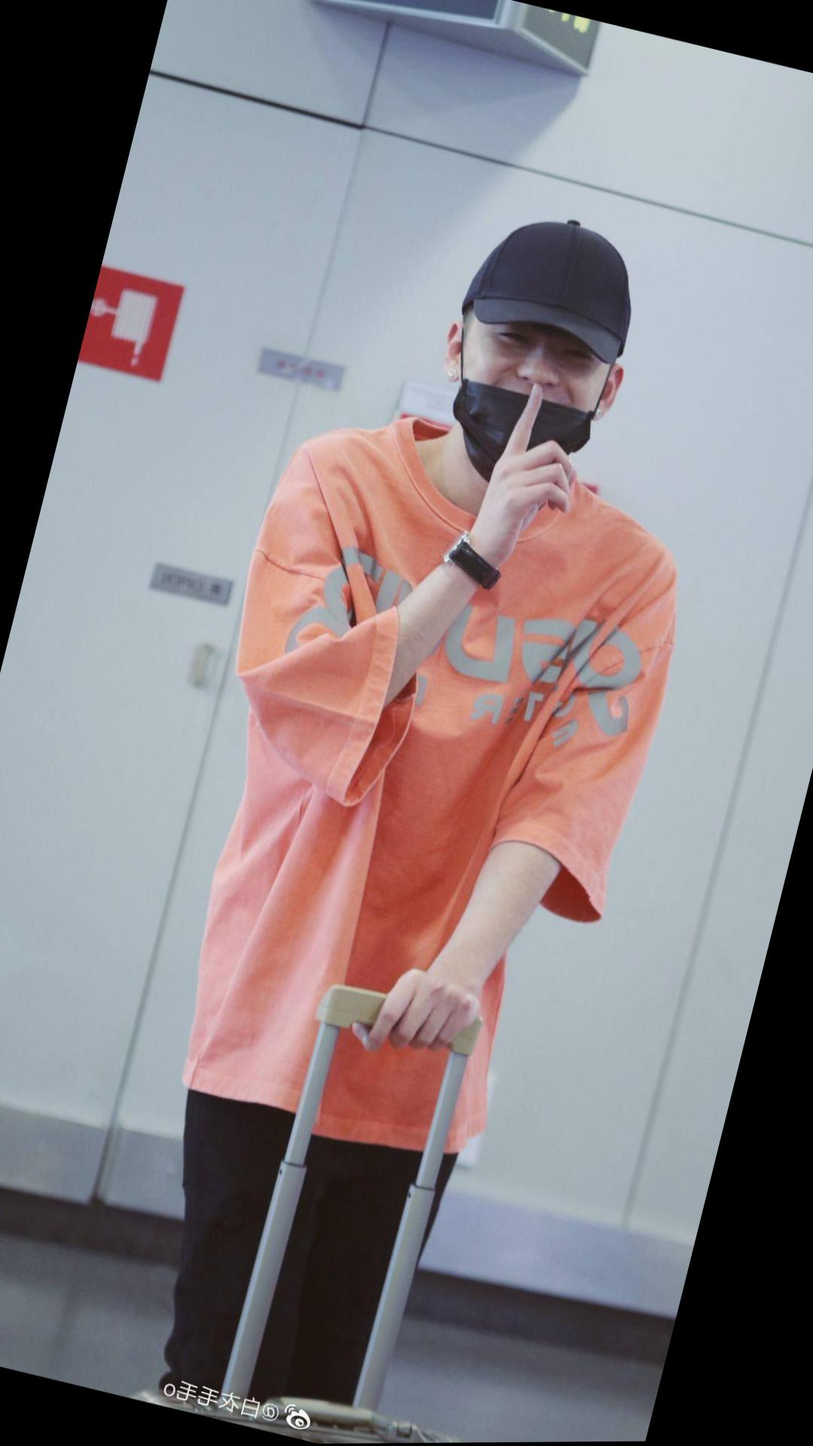WRONG: (437, 288, 621, 506)
